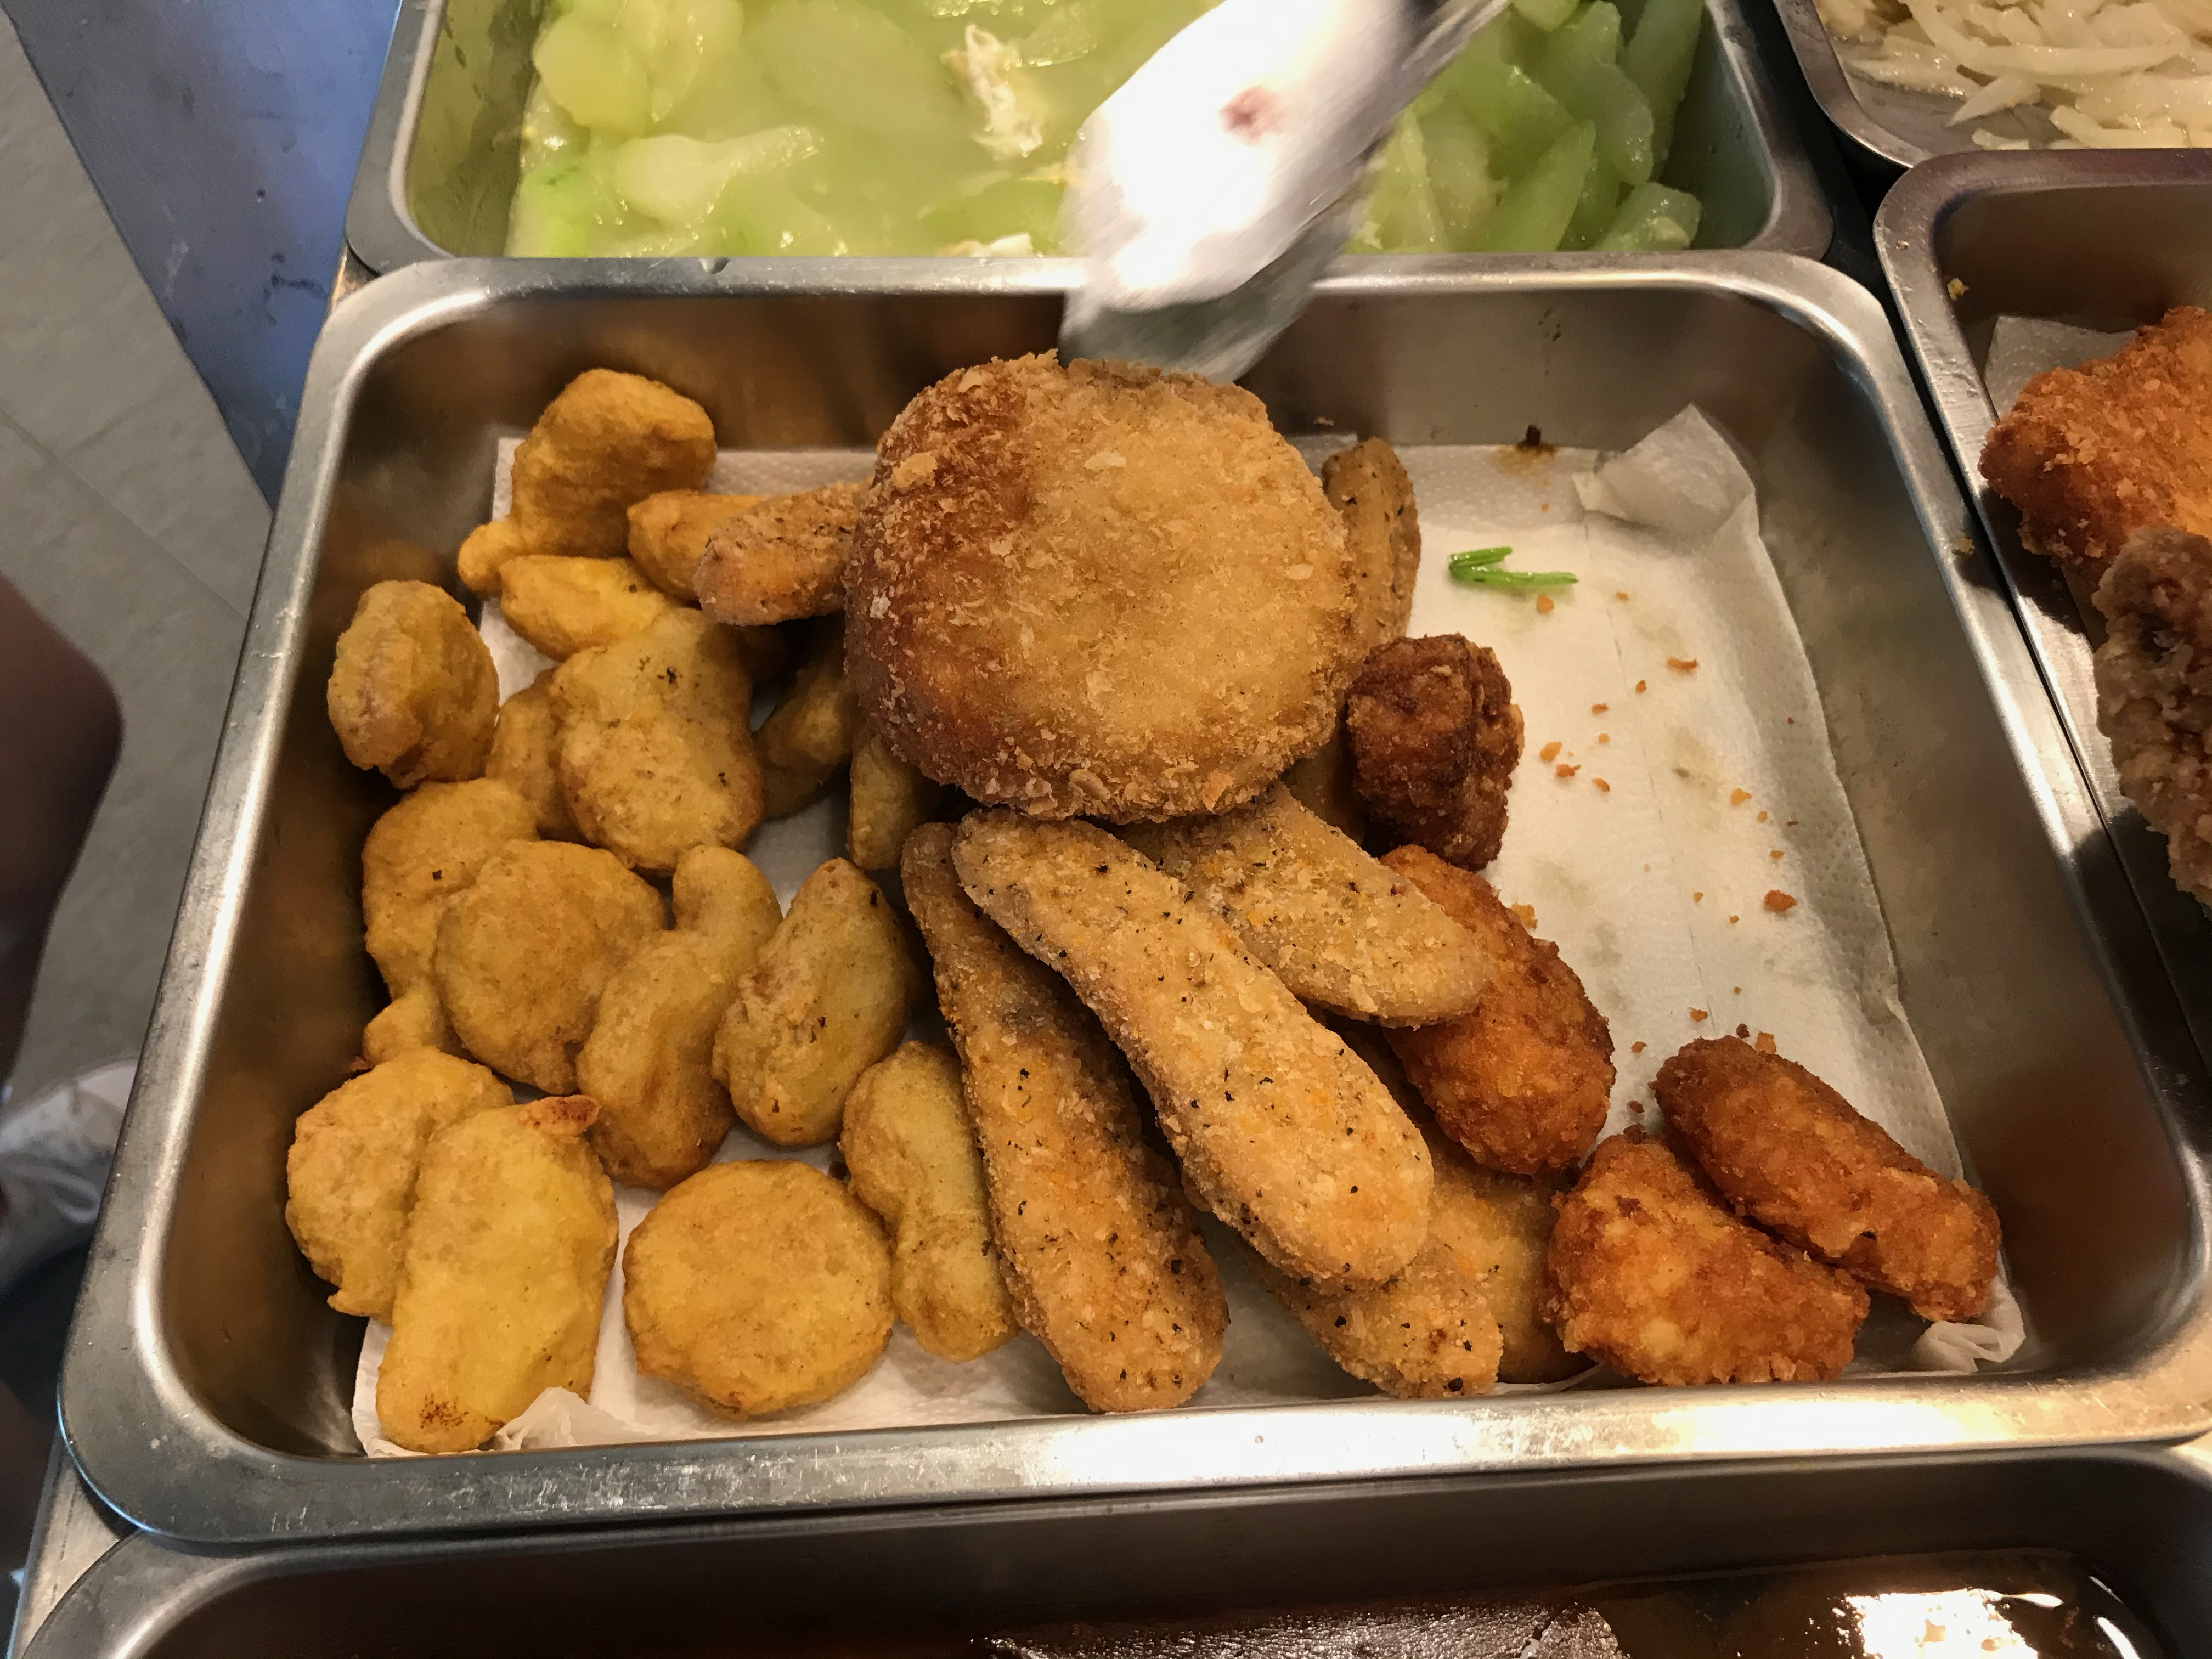chicken_nuggets: (320, 364, 853, 1445)
triangle_hash_brown: (1397, 842, 2008, 1392)
